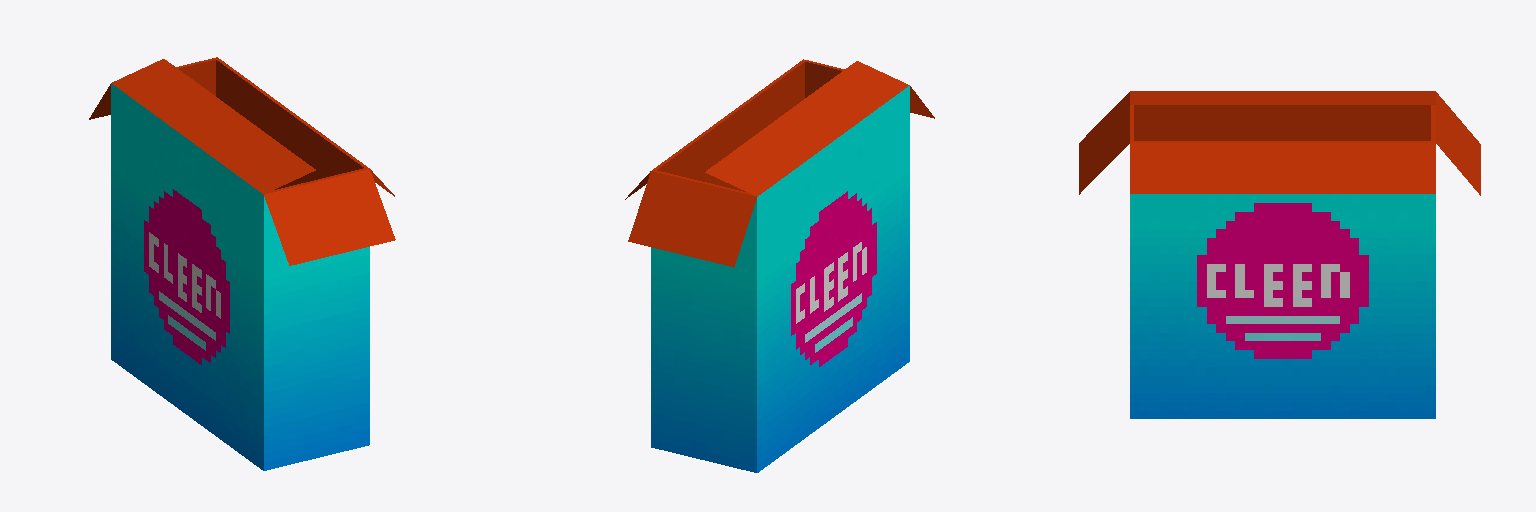
3 renders of one model, left to right at view 1: azimuth 30°, elevation 25°; view 2: azimuth 150°, elevation 25°; view 3: azimuth 270°, elevation 25°, orthographic.
Parts seen in each view (by area): view 1: box_detergent; view 2: box_detergent; view 3: box_detergent.
Part boxes in pixels (bbox=[...]): box_detergent: bbox=[89, 57, 395, 470]; box_detergent: bbox=[625, 59, 934, 472]; box_detergent: bbox=[1079, 91, 1480, 418].
Bounding box in the file's own units: 1.02 × 2.08 × 2.64.
3 materials, 1 textured.